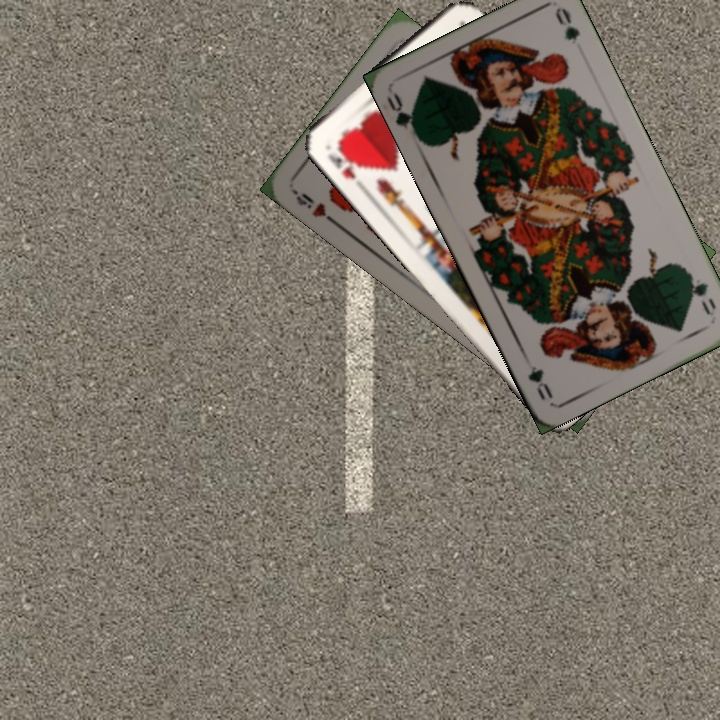GO: (382, 88, 422, 142), (682, 267, 719, 318)
H9: (289, 185, 340, 228)
HK: (323, 137, 363, 182)
